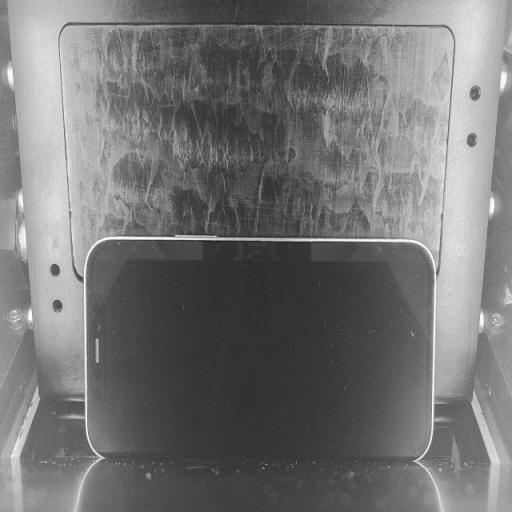phone: (76, 229, 440, 461)
